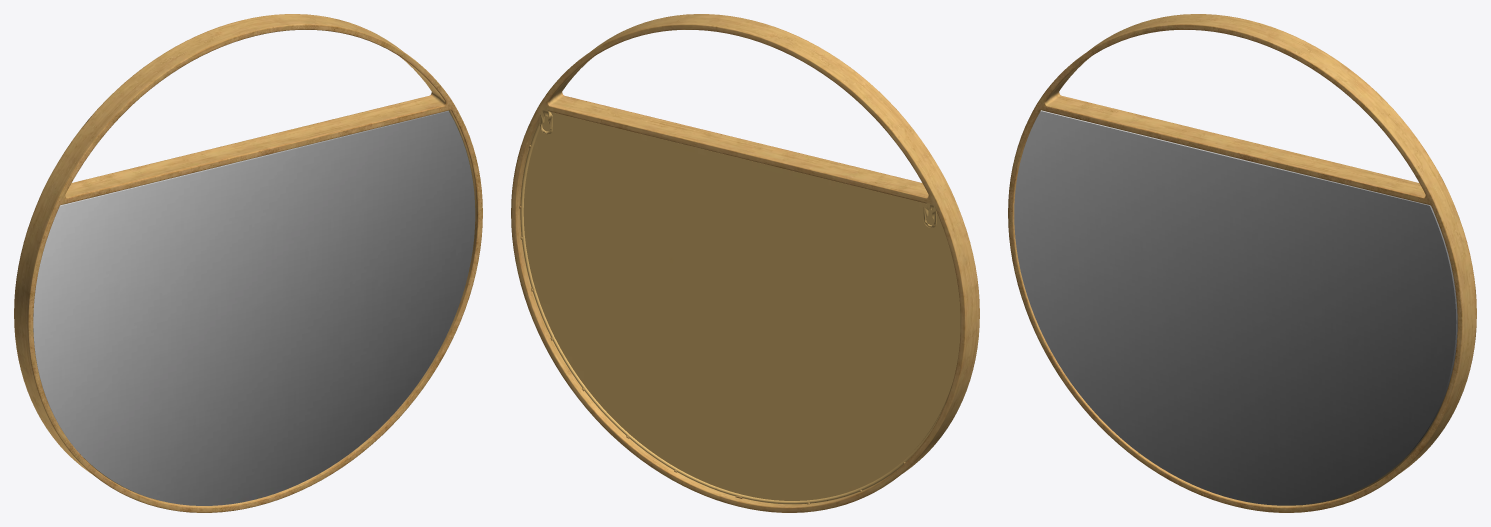
3 renders of one model, left to right at view 1: azimuth 30°, elevation 25°; view 2: azimuth 150°, elevation 25°; view 3: azimuth 330°, elevation 25°, orthographic.
Visible parts, largest first — view 1: RootNode; view 2: RootNode; view 3: RootNode.
Part boxes in pixels (<box>): RootNode: <box>14,14,482,512</box>; RootNode: <box>511,14,979,512</box>; RootNode: <box>1008,14,1476,512</box>.
Size of the model in its own units: 0.5651 by 0.5651 by 0.0317.
1 material, 1 textured.
